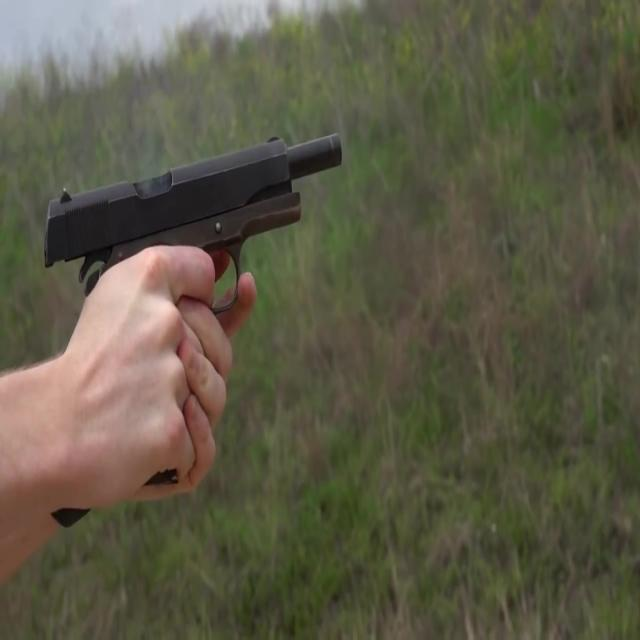Weapon: (34, 100, 354, 426)
